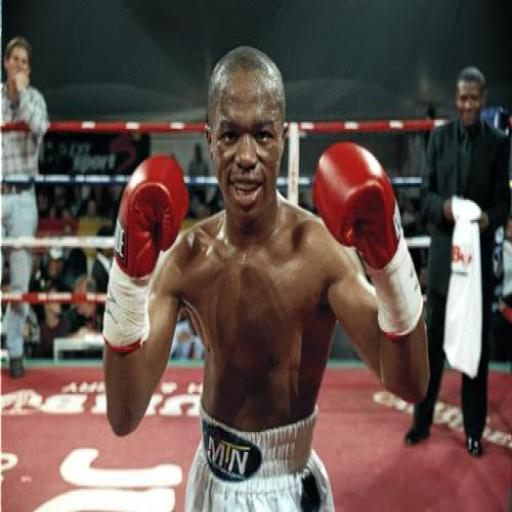boxing: (100, 43, 430, 511)
